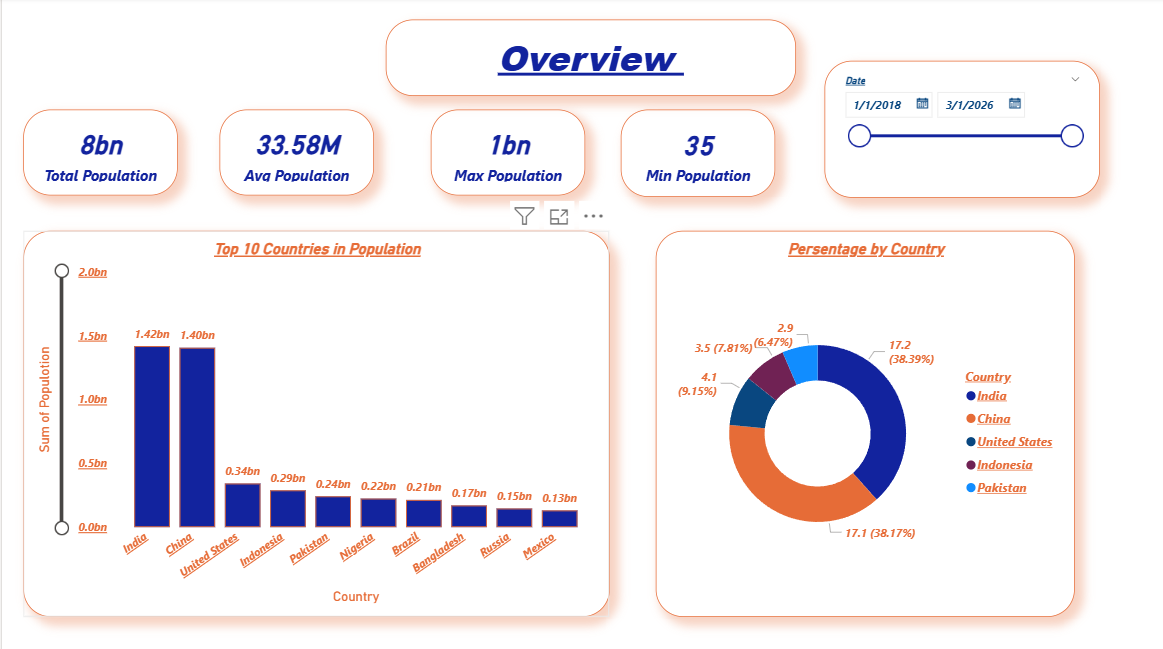

The page's visual inventory and layout, read from the dashboard file:
{"tool":"powerbi","page":{"name":"Overview Page","canvas":[1280,720],"ordinal":0},"visuals":[{"type":"textbox","box":[421.3,25.3,450.7,84],"z":0},{"type":"card","fields":{"Values":["Data.Total Population"]},"box":[22.7,124,169.3,94.7],"z":1000},{"type":"card","fields":{"Values":["Data.Max Population"]},"box":[470.7,124,169.3,94.7],"z":2000},{"type":"card","fields":{"Values":["Data.Avg Population"]},"box":[238.7,124,169.3,94.7],"z":3000},{"type":"card","fields":{"Values":["Data.Min Population"]},"box":[678.7,124,169.3,96],"z":4000},{"type":"clusteredColumnChart","title":"Top 10 Countries in Population","fields":{"Category":["Data.Country"],"Y":["Sum(Data.Populotion)"]},"box":[22.7,256,644,424],"z":5000},{"type":"donutChart","title":" Persentage by Country","fields":{"Category":["Data.Country"],"Y":["Sum(Data.Persentage)"]},"box":[717.3,256,460,424],"z":6000},{"type":"slicer","fields":{"Values":["Data.Date"]},"box":[902.7,69.3,302.7,150.7],"z":7000}]}

Visuals, with their boxes in screenshot pixels (x1, y1, x2, y2), scaled from the page's 1280x720 canvas onto the 1163x649 screenshot:
textbox: bbox=[383, 23, 792, 99]
card - Data.Total Population: bbox=[21, 112, 174, 197]
card - Data.Max Population: bbox=[428, 112, 582, 197]
card - Data.Avg Population: bbox=[217, 112, 371, 197]
card - Data.Min Population: bbox=[617, 112, 770, 198]
"Top 10 Countries in Population" clusteredColumnChart: bbox=[21, 231, 606, 613]
" Persentage by Country" donutChart: bbox=[652, 231, 1070, 613]
slicer - Data.Date: bbox=[820, 62, 1095, 198]
